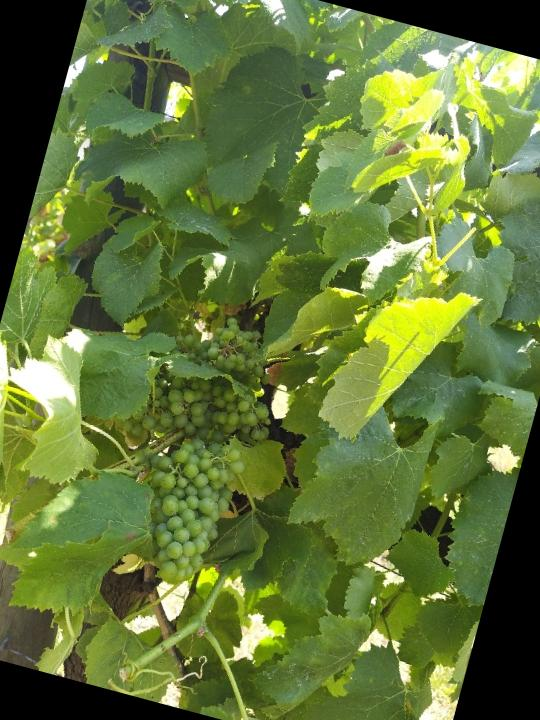grape: (79, 296, 315, 612)
